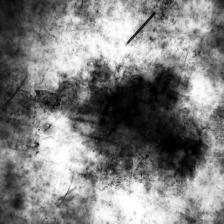Benign Marking or Mole: (53, 56, 217, 197)
